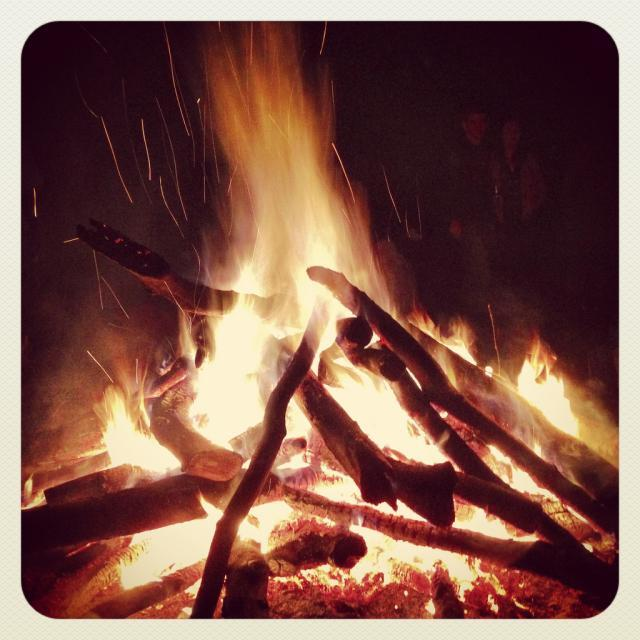Fire: (236, 112, 347, 268), (200, 290, 308, 446), (338, 372, 423, 453), (105, 417, 189, 475), (134, 522, 208, 576), (523, 362, 575, 426), (368, 536, 454, 570)
